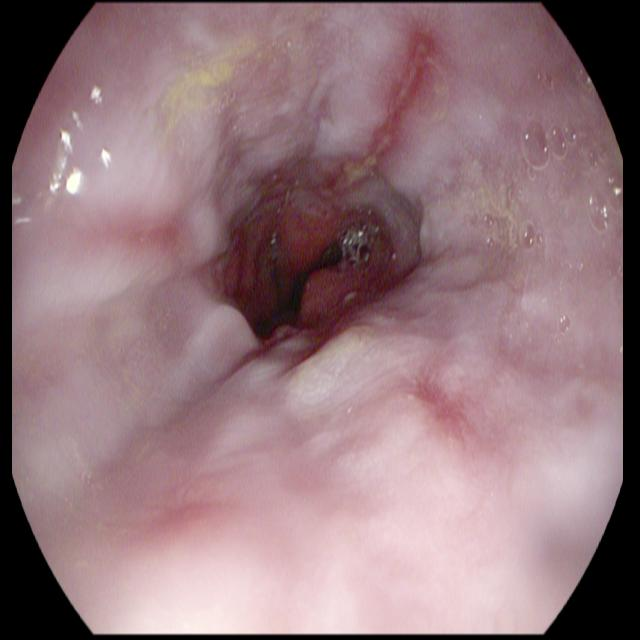esophagitis: (69, 5, 448, 365)
